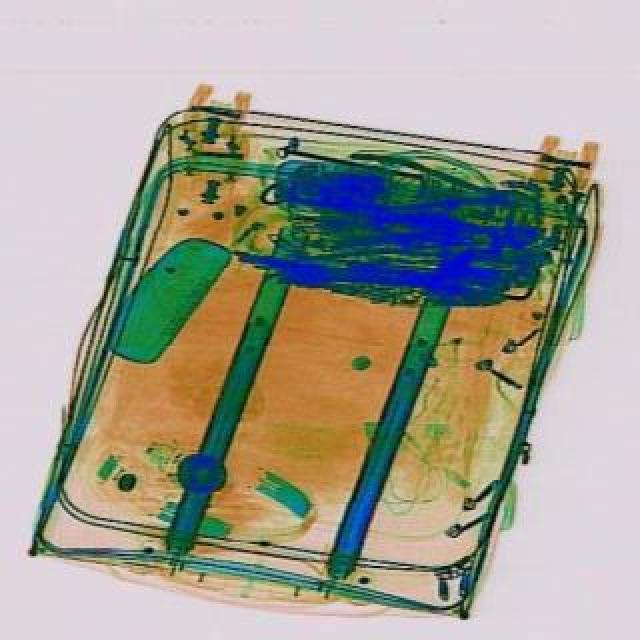wrench: (344, 150, 532, 218)
